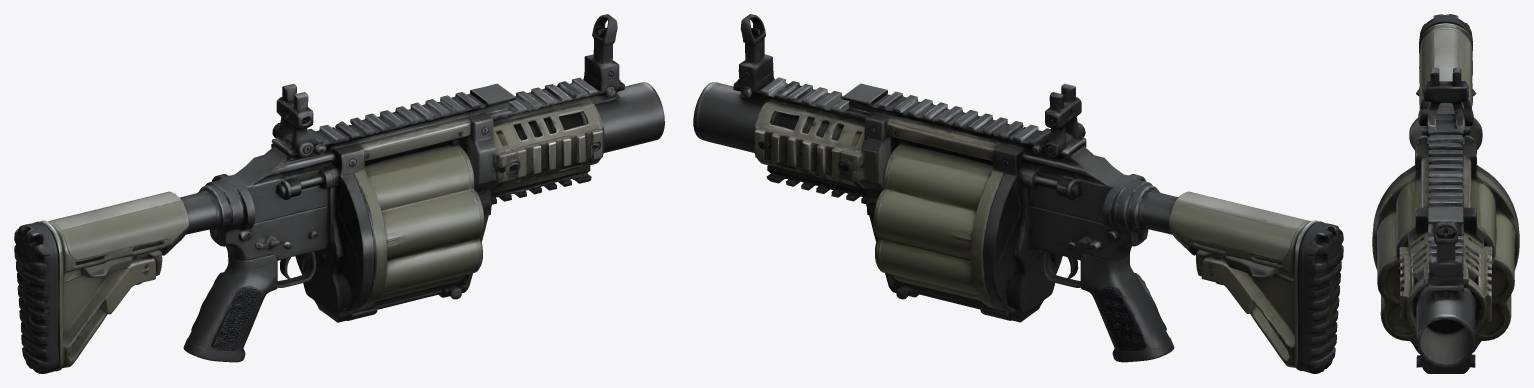
The model's file is launcher.glb.
The picture shows the model from 3 angles, left to right: view 1: azimuth 30°, elevation 25°; view 2: azimuth 150°, elevation 25°; view 3: azimuth 270°, elevation 25°; orthographic projection. The views are drawn at different scales.
Parts seen in each view (by area): view 1: tripo_node_1b5ad75c-6adb-49d3-9c39-febe334a36ca; view 2: tripo_node_1b5ad75c-6adb-49d3-9c39-febe334a36ca; view 3: tripo_node_1b5ad75c-6adb-49d3-9c39-febe334a36ca.
Boxes of the visible parts, left/top/right/bottom form: tripo_node_1b5ad75c-6adb-49d3-9c39-febe334a36ca: left=14, top=14, right=664, bottom=373; tripo_node_1b5ad75c-6adb-49d3-9c39-febe334a36ca: left=693, top=14, right=1343, bottom=373; tripo_node_1b5ad75c-6adb-49d3-9c39-febe334a36ca: left=1372, top=14, right=1519, bottom=373.
Bounding box in the file's own units: 1 × 0.3856 × 0.2093.
1 material, 1 textured.
